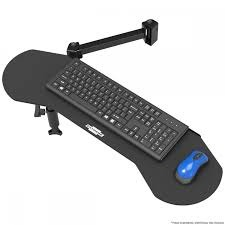keyboard: (41, 60, 187, 156)
mouse: (170, 149, 213, 181)
